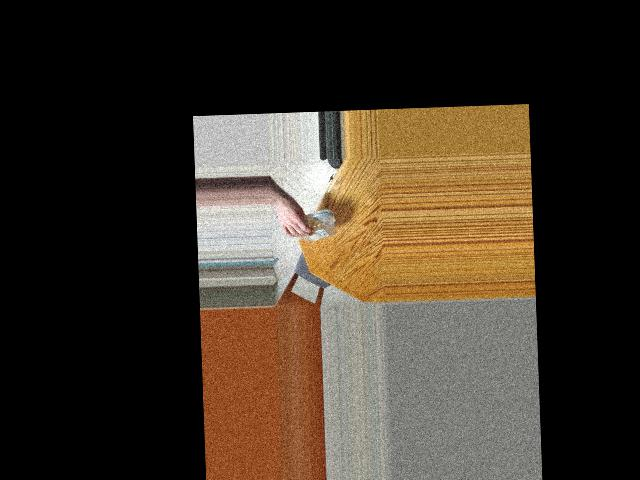cheese: (282, 205, 327, 243)
